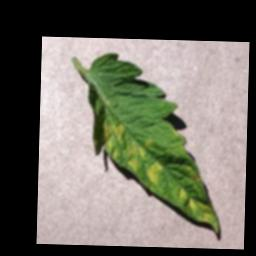Leaf_Mold: (100, 117, 228, 236)
